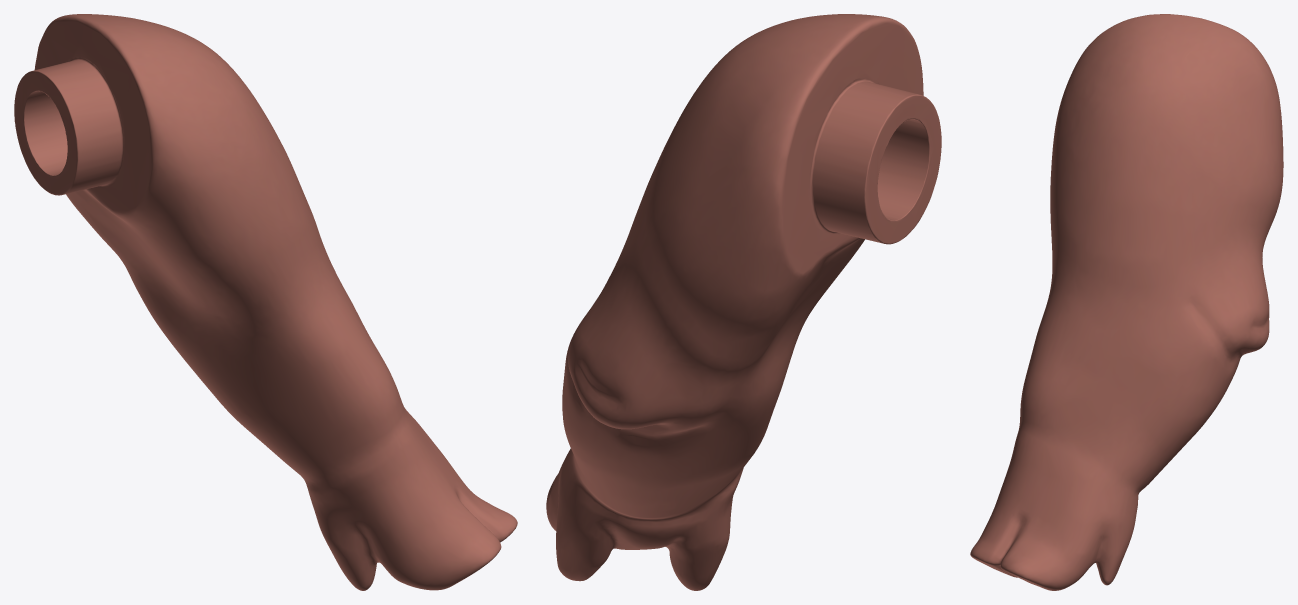
Rendered from Bras_Cochon_lft.glb.
3 views of the same model, side by side, from view 1: azimuth 30°, elevation 25°; view 2: azimuth 150°, elevation 25°; view 3: azimuth 270°, elevation 25° (orthographic). The views are drawn at different scales.
Visible parts, largest first — view 1: Bras_Cochon_lft; view 2: Bras_Cochon_lft; view 3: Bras_Cochon_lft.
Boxes of the visible parts, x1,y1,x2,y2 form: Bras_Cochon_lft: (14,14,517,590); Bras_Cochon_lft: (546,14,941,590); Bras_Cochon_lft: (970,14,1283,590).
Bounding box in the file's own units: 2.93 × 4.16 × 2.51.
